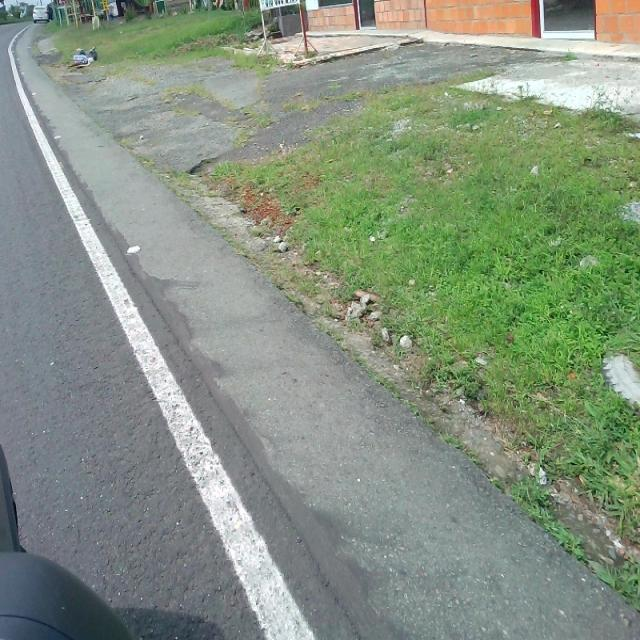DITCH: (14, 20, 638, 638)
